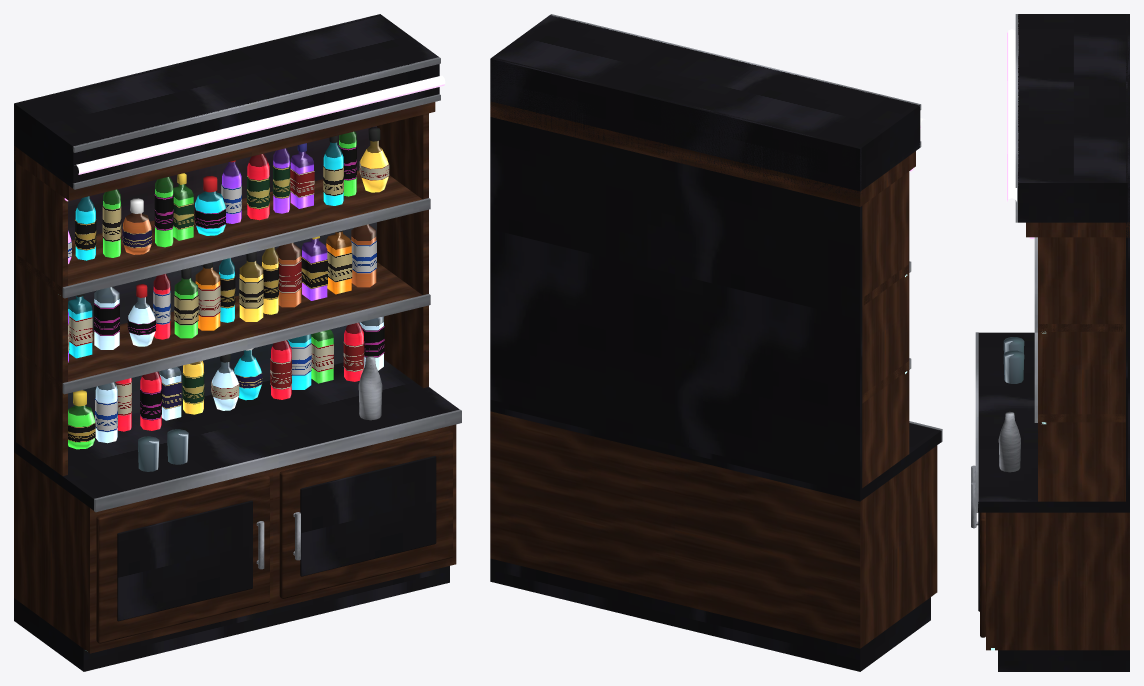
The model's file is prop_backBar.glb.
3 renders of one model, left to right at view 1: azimuth 30°, elevation 25°; view 2: azimuth 150°, elevation 25°; view 3: azimuth 270°, elevation 25°, orthographic. The views are drawn at different scales.
Visible parts, largest first — view 1: prop; view 2: prop; view 3: prop.
Boxes of the visible parts, x1,y1,x2,y2 form: prop: (14,14,461,671); prop: (490,14,942,671); prop: (971,14,1129,671).
Size of what is drawn, in the model's own units: 1 by 1.35 by 0.397.
Materials: 9 (6 with a texture image).
